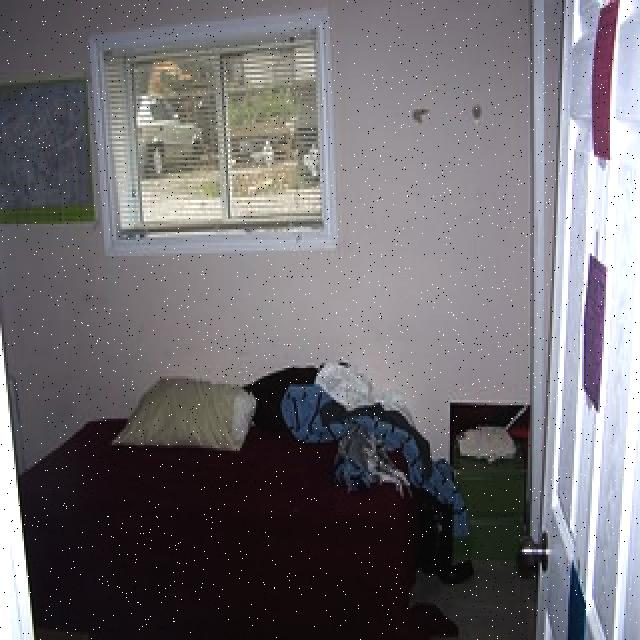bed: (50, 357, 459, 560)
